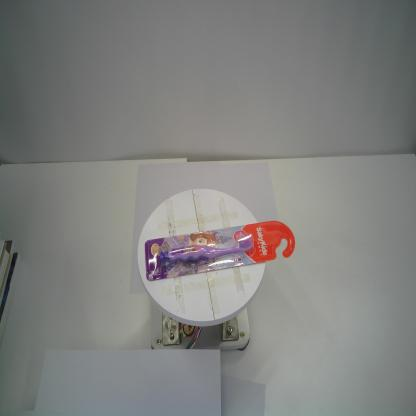Personal Hygiene: (144, 220, 296, 282)
